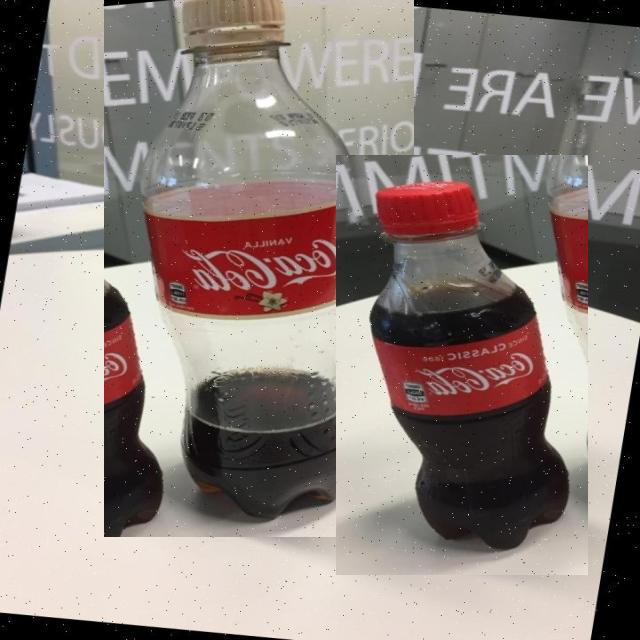coca-cola: (104, 0, 414, 537), (336, 155, 588, 575)
